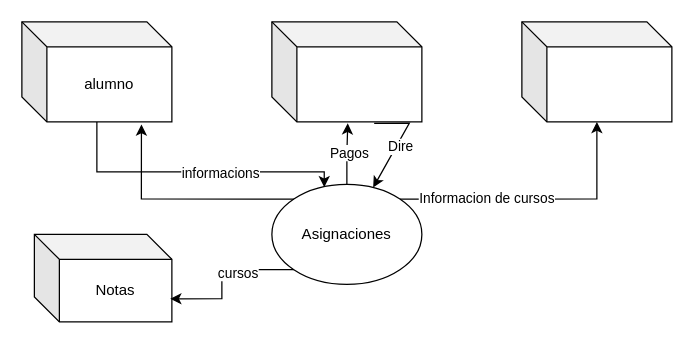
Some shapes in this 694 by 344 pixel diagram are drawn without their labels. Here are the shapes that lost their labels. From the top down, the box of each, then its label:
(271, 21, 422, 122): Finanzas
(521, 21, 672, 122): Maestros
